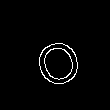O_N: (26, 23, 84, 87)
